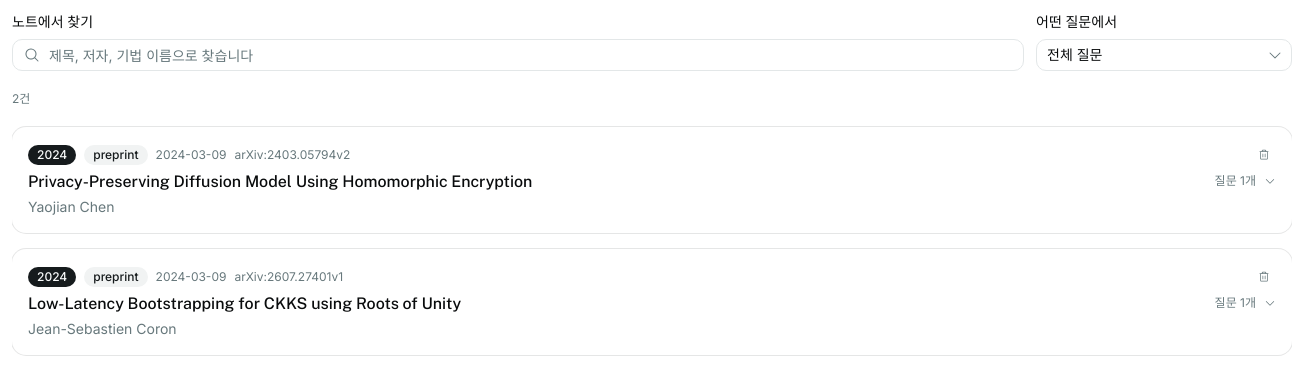
NoteBrowser › 검색어를 넣으면 맞는 카드만 남는다
The width and height of the screenshot is (1304, 373).
Expected: the heading "Privacy-Preserving Diffusion Model Using Homomorphic Encryption" is shown, [28, 172, 532, 191]
Expected: the heading "Low-Latency Bootstrapping for CKKS using Roots of Unity" is shown, [28, 294, 461, 313]
Type "bootstrapping" into the field labelled "노트에서 찾기" at x=518, y=55, box [12, 39, 1024, 71]
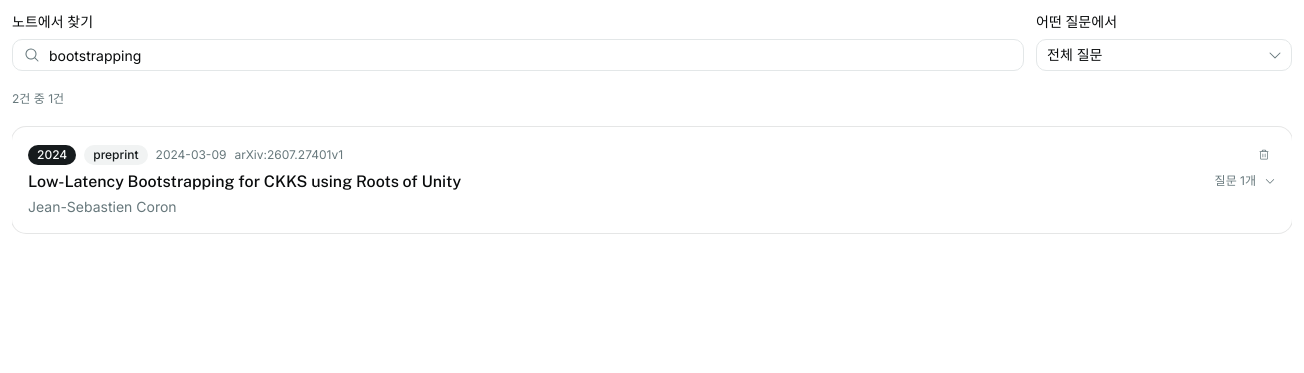
Expected: the heading "Low-Latency Bootstrapping for CKKS using Roots of Unity" is shown, [28, 172, 461, 191]
Expected: the button "Privacy-Preserving Diffusion Model Using Homomorphic Encryption" is gone
